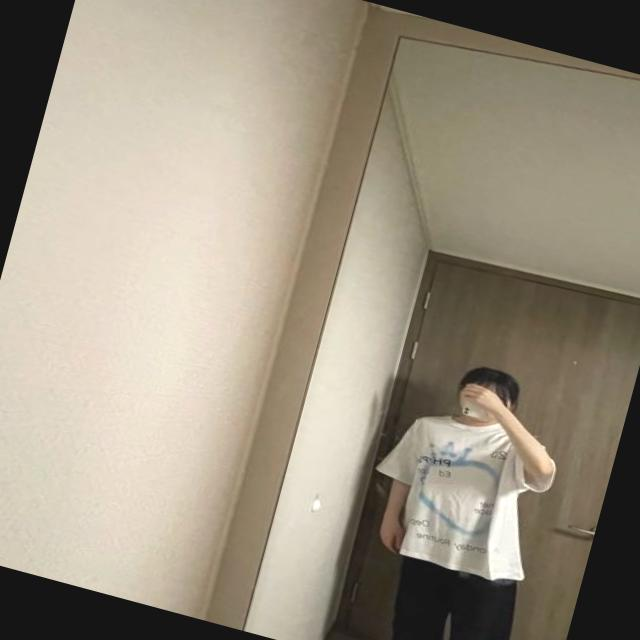shortsleeve: (351, 397, 560, 591)
slacks: (373, 550, 536, 640)
